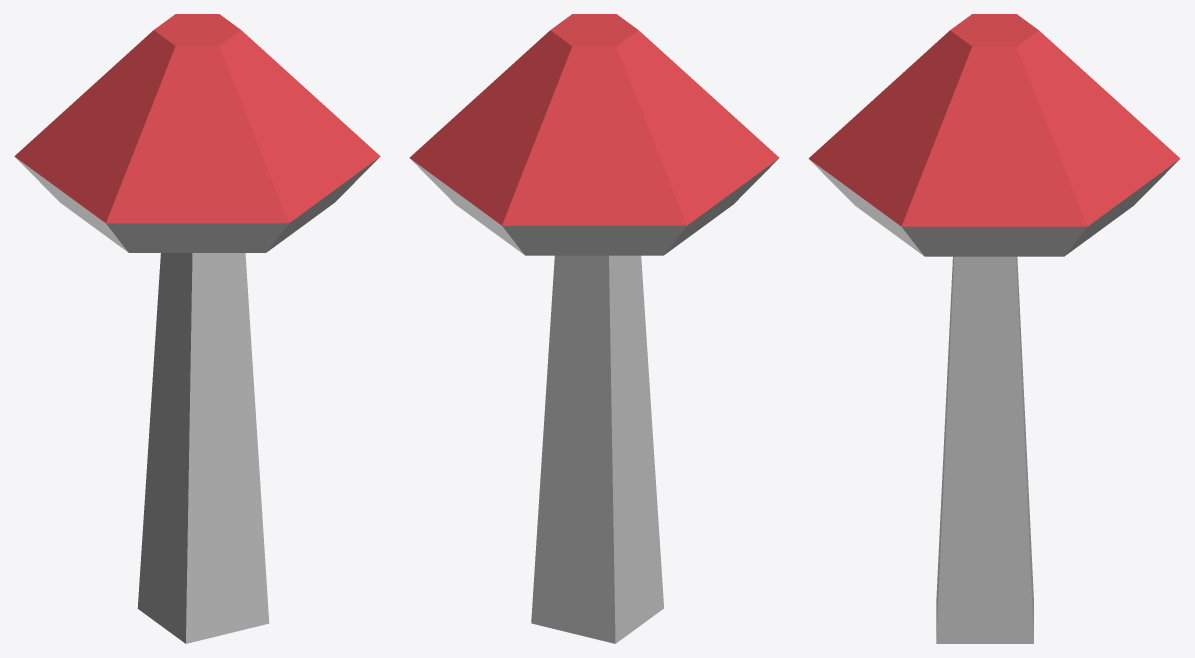
File: mushroom_redTall.obj
3 renders of one model, left to right at view 1: azimuth 30°, elevation 25°; view 2: azimuth 150°, elevation 25°; view 3: azimuth 270°, elevation 25°, orthographic.
Parts seen in each view (by area): view 1: mushroom_redTall; view 2: mushroom_redTall; view 3: mushroom_redTall.
Part boxes in pixels (bbox=[...]): mushroom_redTall: bbox=[14, 14, 380, 643]; mushroom_redTall: bbox=[409, 14, 779, 643]; mushroom_redTall: bbox=[808, 14, 1180, 643].
Size of the model in its own units: 0.1235 by 0.2505 by 0.1426.
